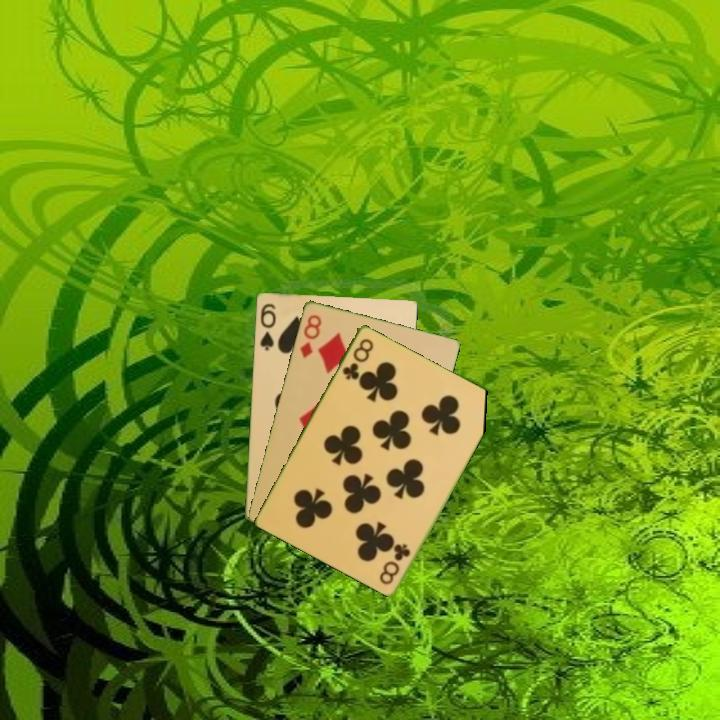6s: (256, 300, 278, 353)
8c: (338, 334, 376, 382), (376, 540, 413, 587)
8d: (296, 311, 324, 360)
